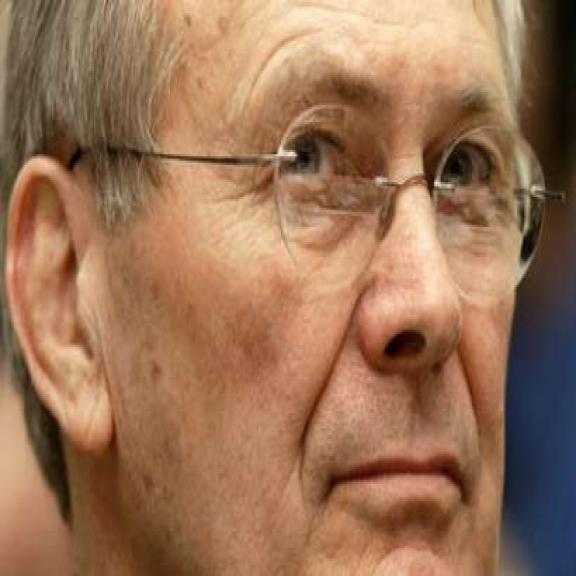face: (3, 2, 542, 576)
